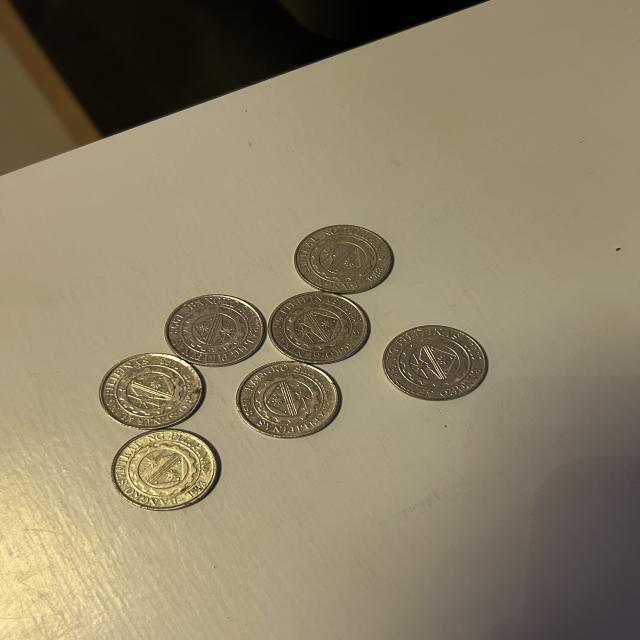1_Old_Back: (236, 362, 340, 438), (128, 440, 202, 495), (113, 364, 190, 416), (399, 336, 474, 388), (308, 234, 382, 286), (284, 304, 354, 349)
